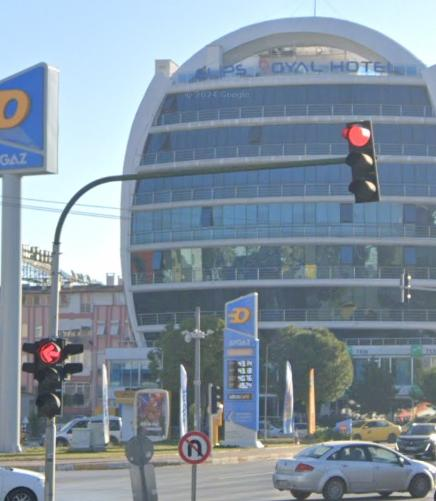redlight: (27, 331, 75, 421), (341, 112, 385, 206)
